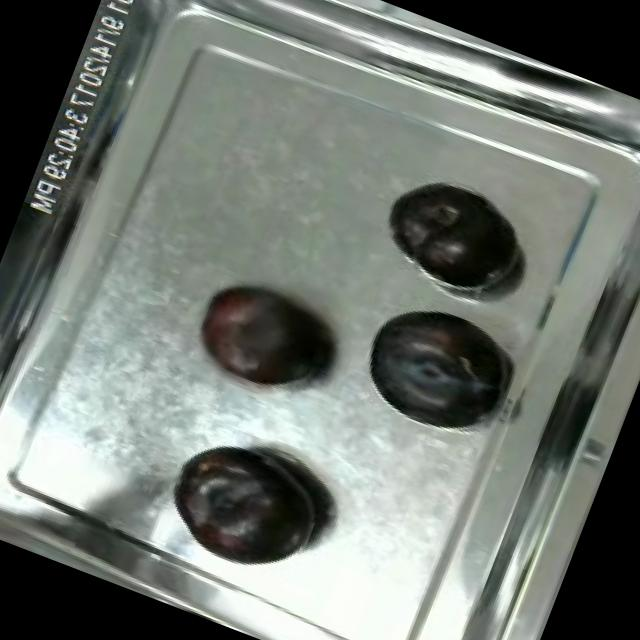Fruit: (149, 421, 342, 594), (344, 287, 525, 449), (180, 264, 346, 411), (369, 164, 527, 300)
